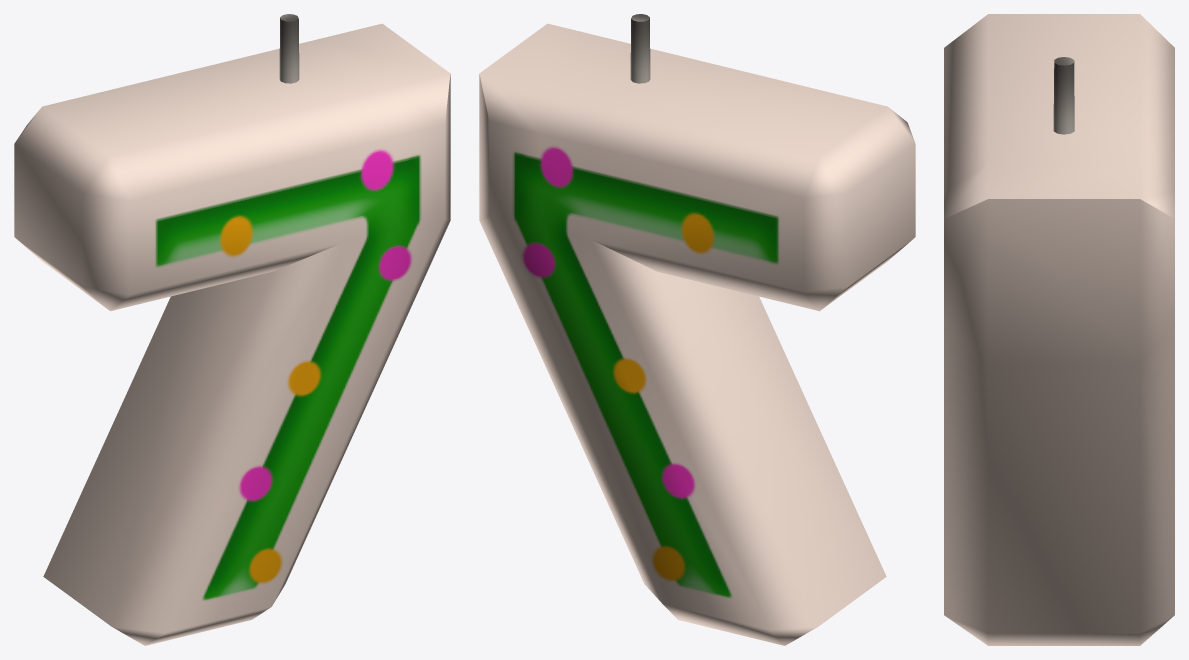
File: Candle_7.fbx
3 renders of one model, left to right at view 1: azimuth 30°, elevation 25°; view 2: azimuth 150°, elevation 25°; view 3: azimuth 270°, elevation 25°, orthographic. The views are drawn at different scales.
Visible parts, largest first — view 1: Candle_7; view 2: Candle_7; view 3: Candle_7.
Part boxes in pixels (x1=…): Candle_7: x1=14, y1=14, x2=450, y2=645; Candle_7: x1=479, y1=14, x2=915, y2=645; Candle_7: x1=944, y1=14, x2=1174, y2=645.
Bounding box in the file's own units: 21 × 30.52 × 10.24.
